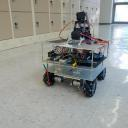cart: (40, 40, 109, 98)
